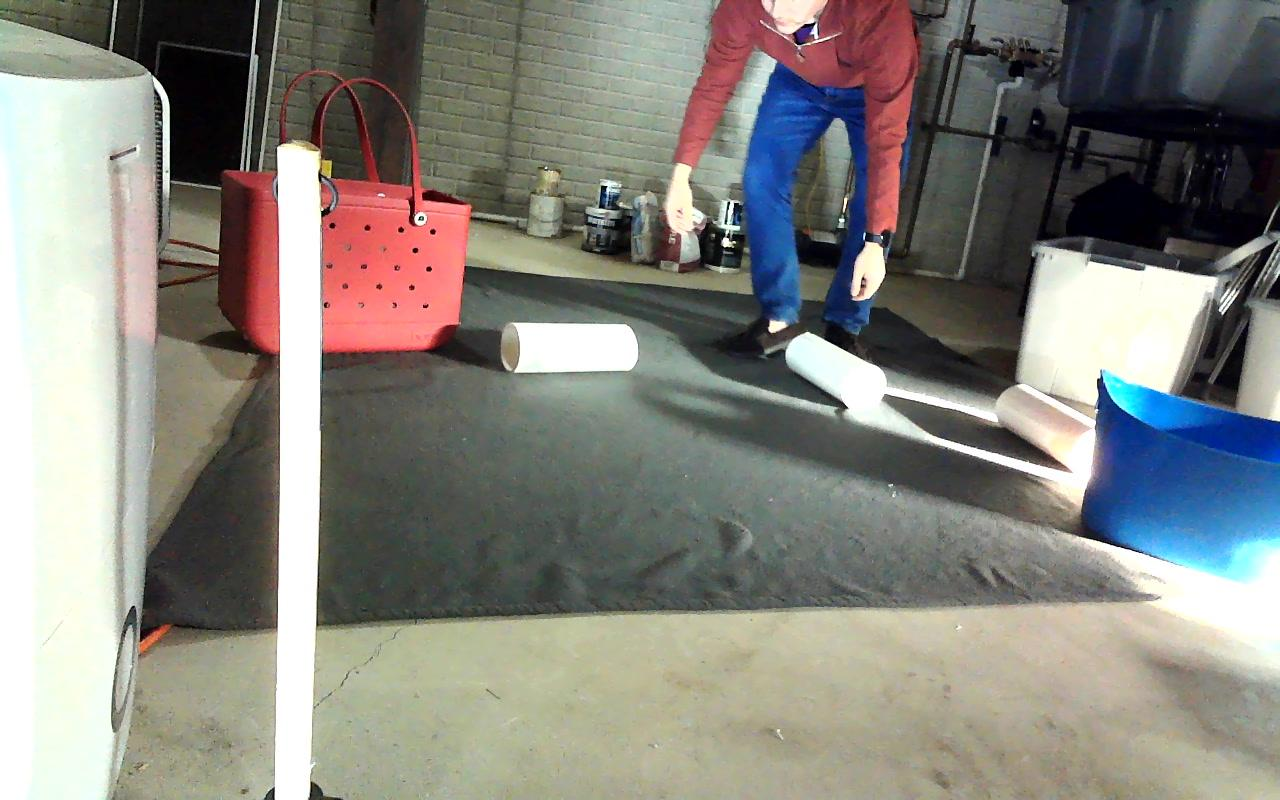coral: (994, 382, 1095, 469), (785, 332, 884, 409), (500, 321, 637, 373)
